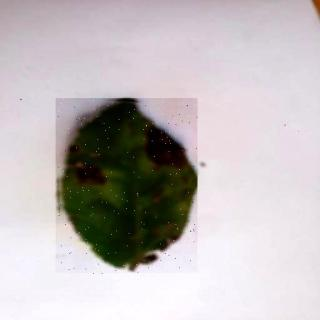Algal Leaf: (57, 100, 199, 275)
